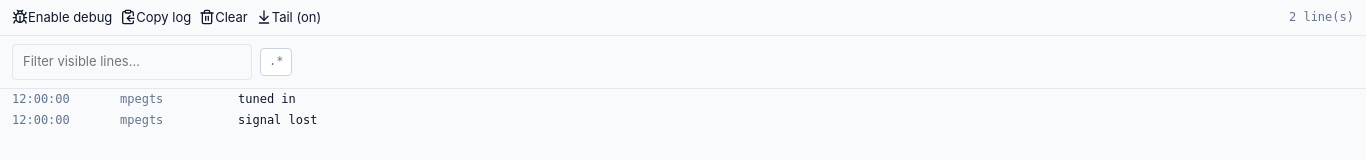
Test: LogView — text filter › count chip switches to "filtered / total" when a filter is active
In the search field with placeholder "Filter visible lines…": point(132, 62) [12,44,252,80], type "signal"
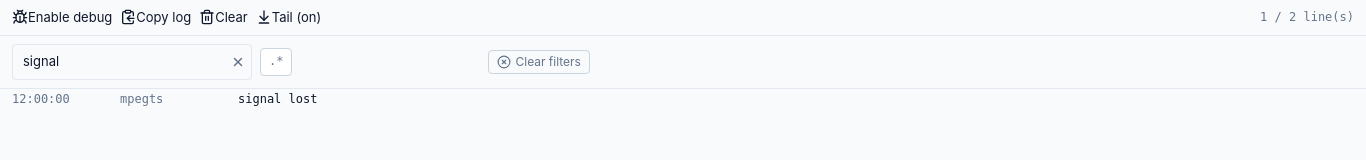
expect the text with class "log-view__count" shows "2": met, box [1260,10,1354,24]
expect the text with class "log-view__count" shows "1": met, box [1260,10,1354,24]
expect the text with class "log-view__count" shows "/": met, box [1260,10,1354,24]
